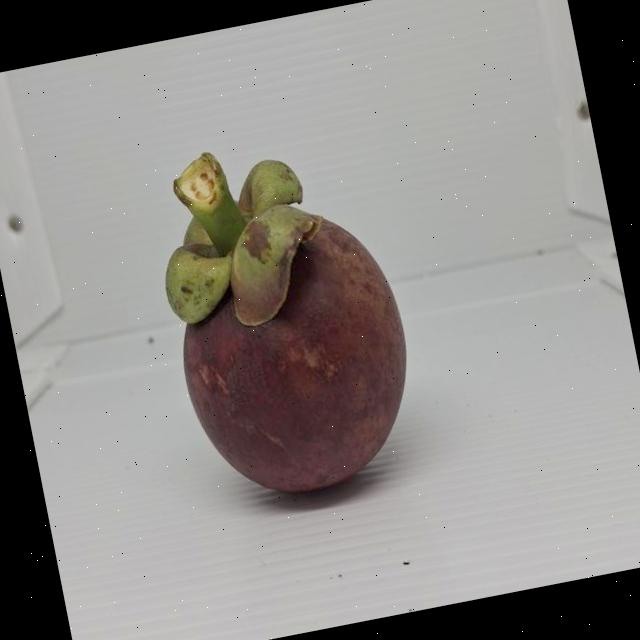mangosteen: (116, 86, 481, 534)
